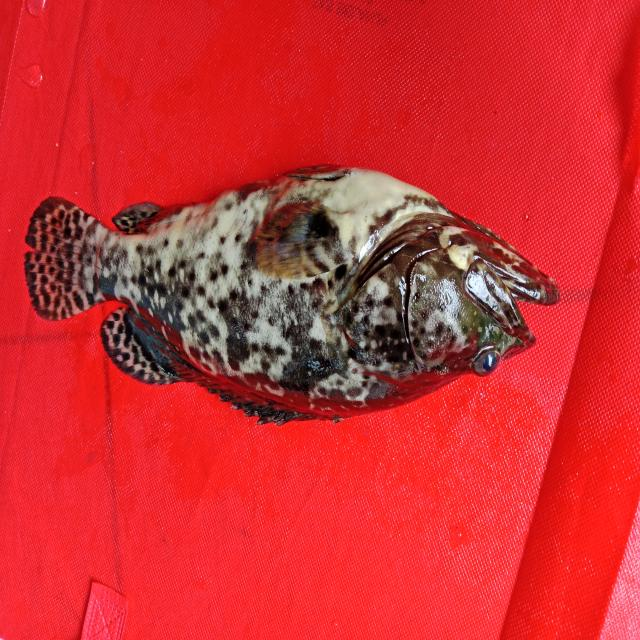ikan: (15, 138, 575, 441)
